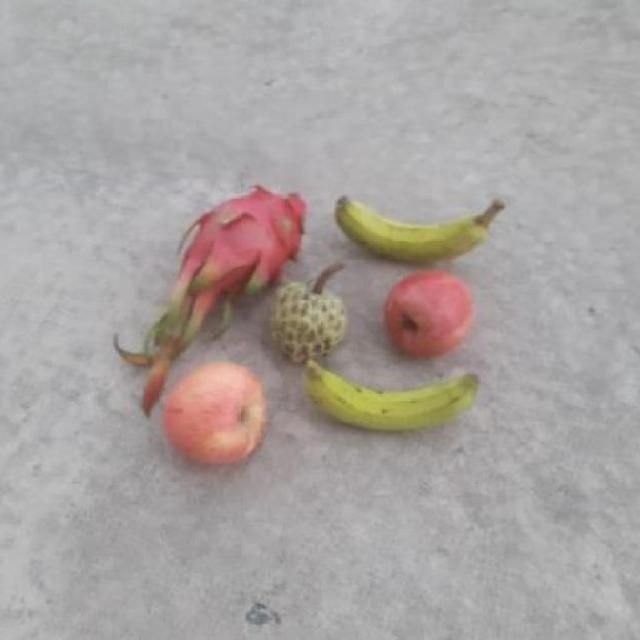apple: (166, 354, 270, 466), (378, 270, 480, 358)
banana: (296, 372, 498, 430), (332, 192, 505, 256)
dragon fruit: (195, 181, 306, 283)
sugar apple: (268, 276, 349, 361)
